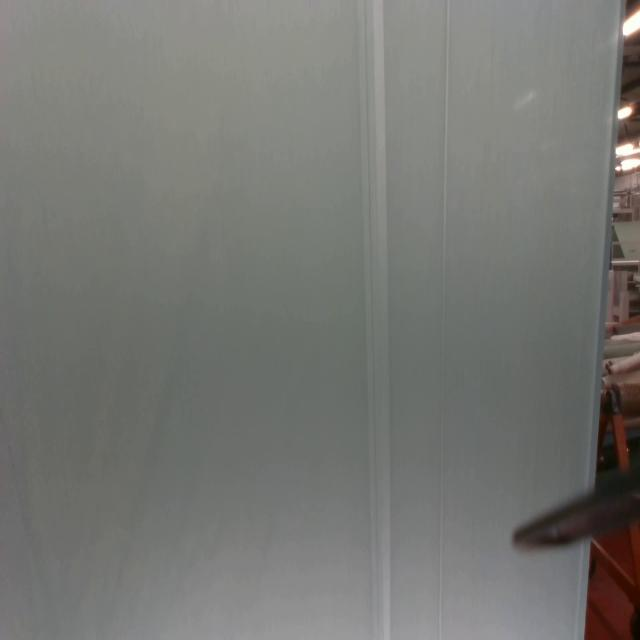crease: (356, 0, 392, 640), (437, 0, 452, 639)
